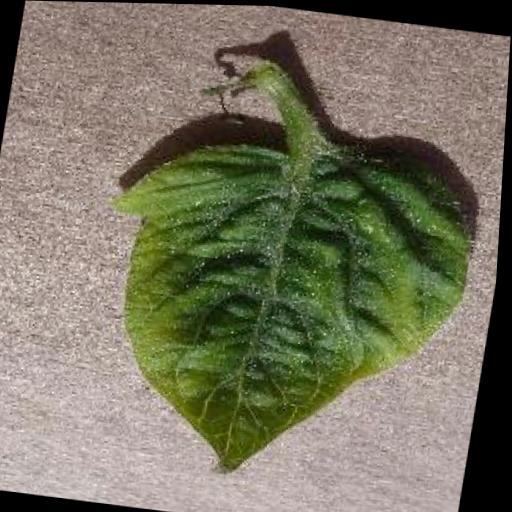Yellow Leaf Curl Virus: (74, 126, 490, 501)
